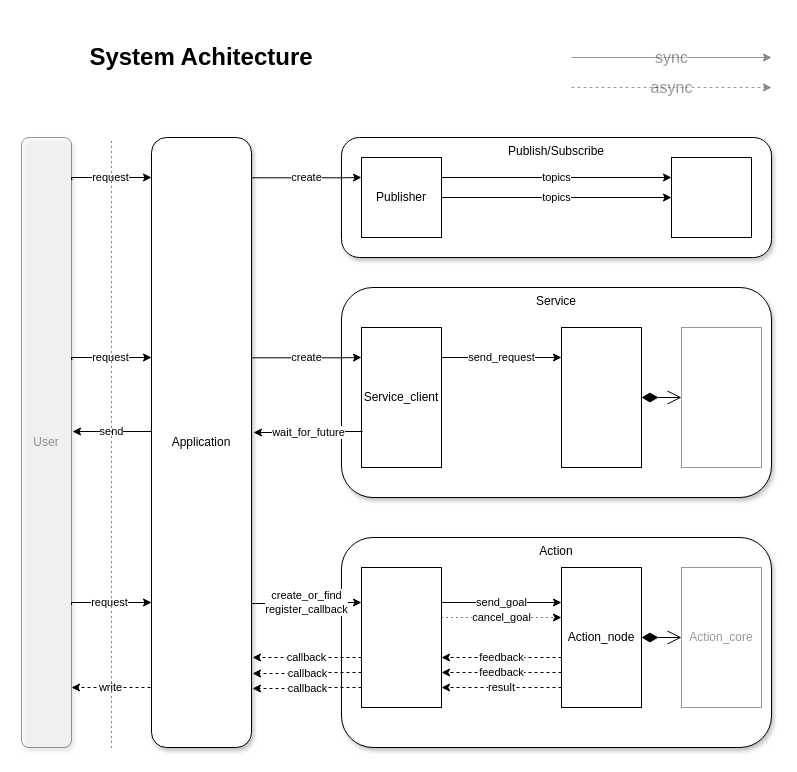
Some shapes in this 797 by 772 pixel diagram are drawn without their labels. The centre of each missing label's shape, as x and y in pixels:
Action_client: (401,637)
Service_core: (721,397)
Service_node: (601,397)
Subscriber: (711,197)
